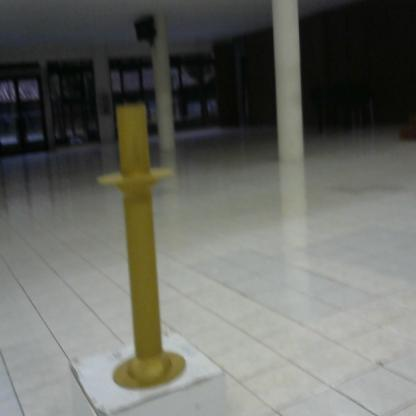pole: (88, 96, 197, 400)
